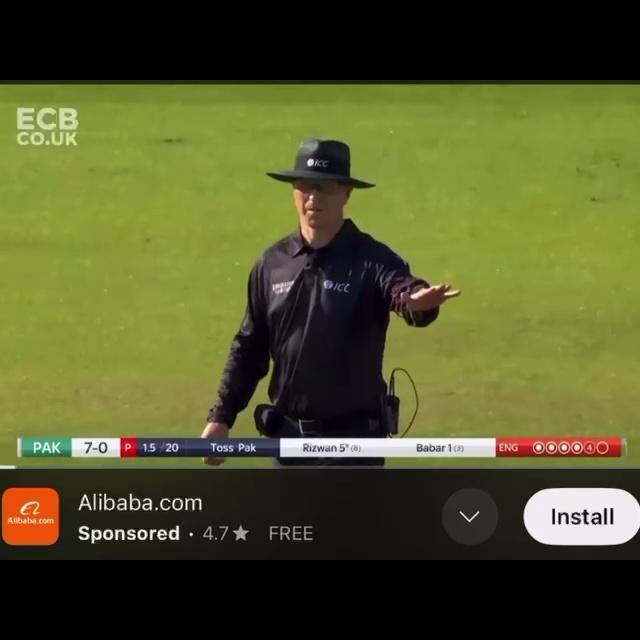umpire: (120, 120, 589, 435), (119, 107, 533, 430)
